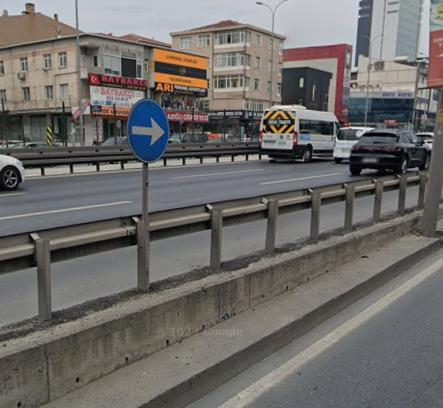turnright: (129, 99, 170, 162)
